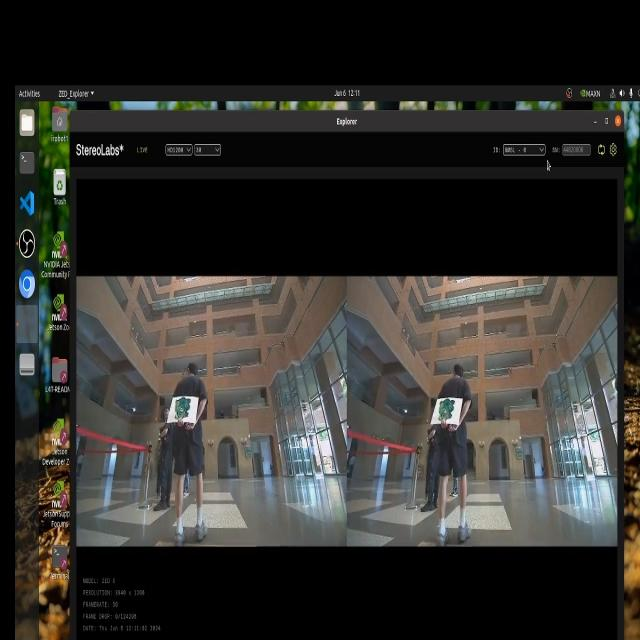green: (166, 392, 194, 422), (439, 394, 459, 423)
